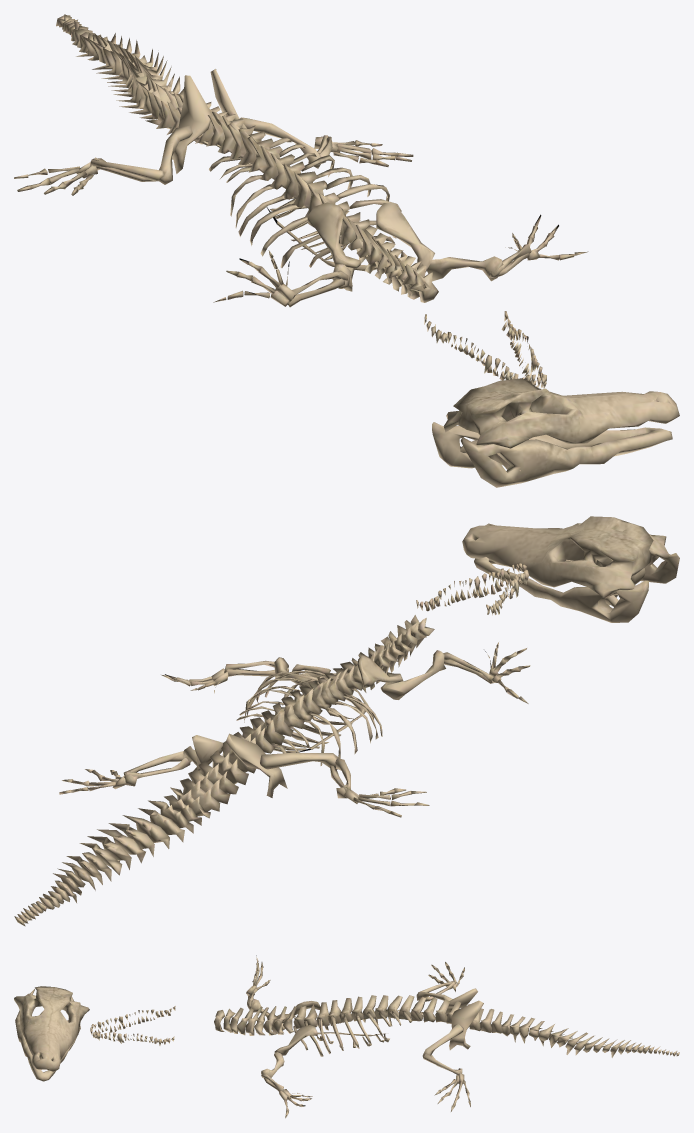
File: crocodile_bones_b.glb
3 views of the same model, one above another, from view 1: azimuth 30°, elevation 25°; view 2: azimuth 150°, elevation 25°; view 3: azimuth 270°, elevation 25° (orthographic). The views are drawn at different scales.
Parts seen in each view (by area): view 1: PM3D_Cube3D1.001; view 2: PM3D_Cube3D1.001; view 3: PM3D_Cube3D1.001.
Boxes of the visible parts, x1=… form: PM3D_Cube3D1.001: x1=14, y1=14, x2=679, y2=487; PM3D_Cube3D1.001: x1=14, y1=516, x2=679, y2=926; PM3D_Cube3D1.001: x1=14, y1=955, x2=679, y2=1118.
Size of the model in its own units: 1.87 by 0.4893 by 4.38.
Materials: 1 (1 with a texture image).
